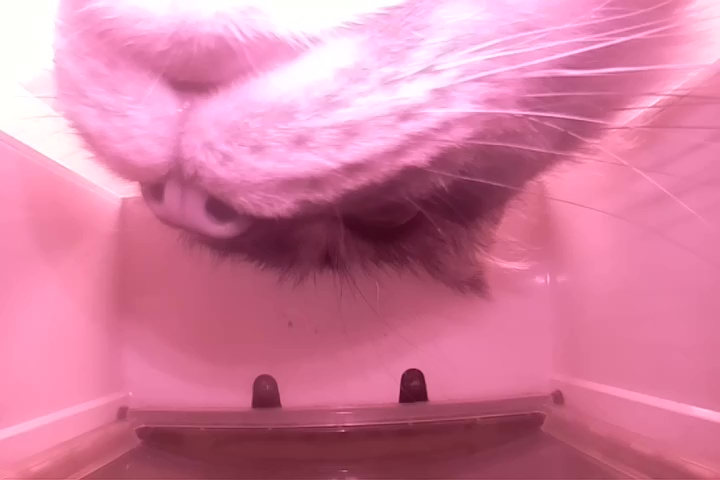Snout: (52, 4, 374, 248)
